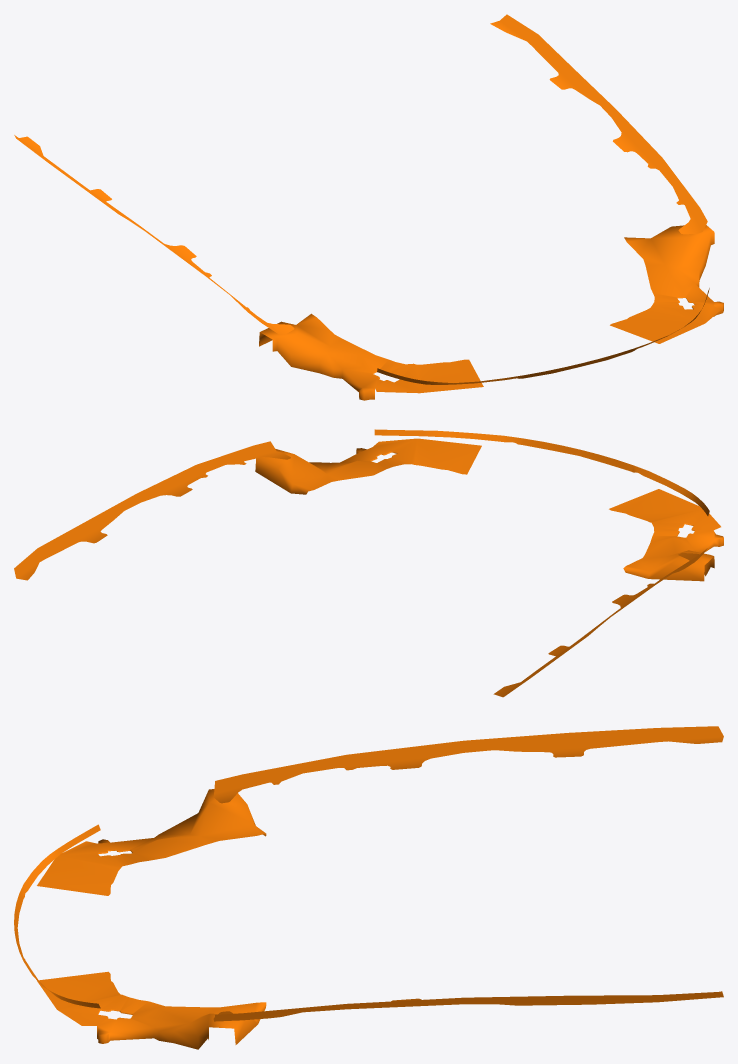
The model's file is amg3__M_CarPaintNormal_Max_M_CarPaint_Max_0.glb.
The picture shows the model from 3 angles, top to bottom: view 1: azimuth 30°, elevation 25°; view 2: azimuth 150°, elevation 25°; view 3: azimuth 270°, elevation 25°; orthographic projection. The views are drawn at different scales.
Parts seen in each view (by area): view 1: amg3__M_CarPaintNormal_Max_M_CarPaint_Max_0; view 2: amg3__M_CarPaintNormal_Max_M_CarPaint_Max_0; view 3: amg3__M_CarPaintNormal_Max_M_CarPaint_Max_0.
Part boxes in pixels (bbox=[...]): amg3__M_CarPaintNormal_Max_M_CarPaint_Max_0: bbox=[14, 14, 723, 400]; amg3__M_CarPaintNormal_Max_M_CarPaint_Max_0: bbox=[14, 429, 723, 697]; amg3__M_CarPaintNormal_Max_M_CarPaint_Max_0: bbox=[14, 726, 723, 1049].
Size of the model in its own units: 1.81 by 0.2744 by 2.03.
